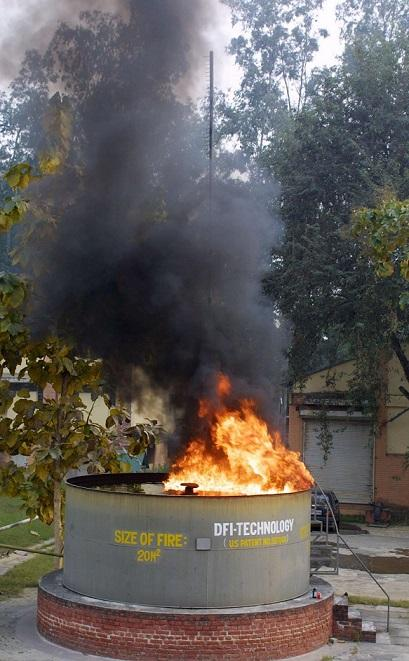fire: (175, 428, 295, 487)
smoke: (75, 155, 242, 315)
